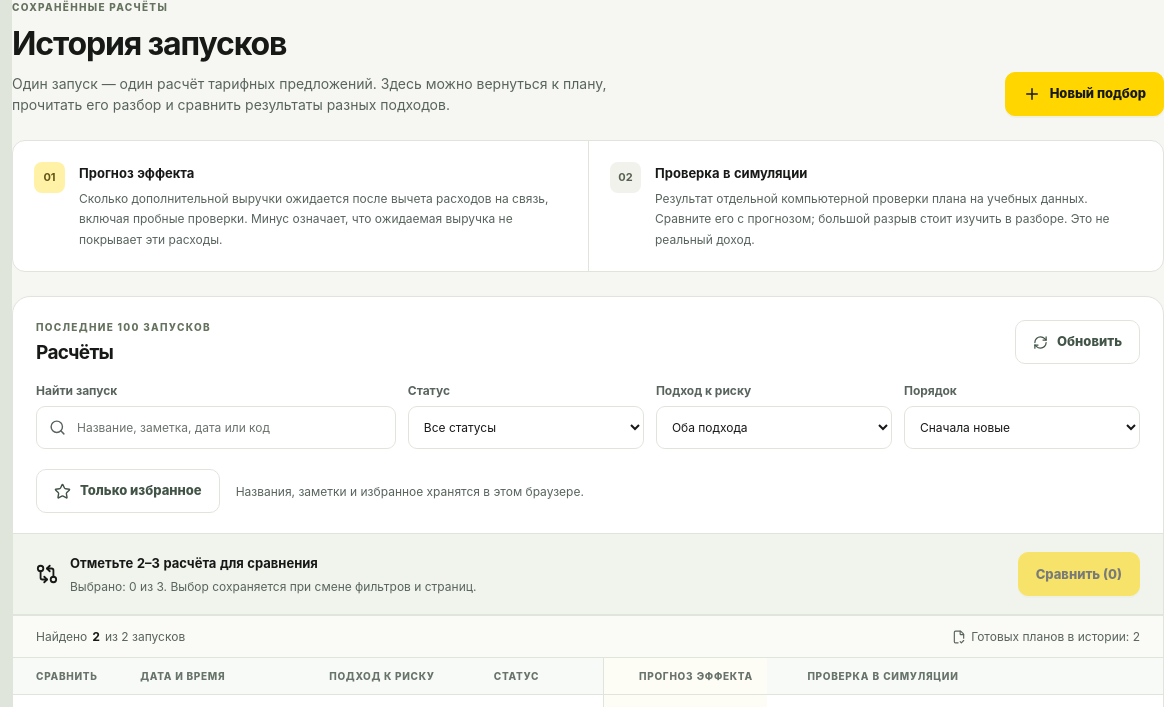
searches saved notes and filters favorites without changing server data
Type "конверсию" into the search field labelled "Найти запуск".
click(229, 428); type("конверсию")  # box [75,407,383,448]
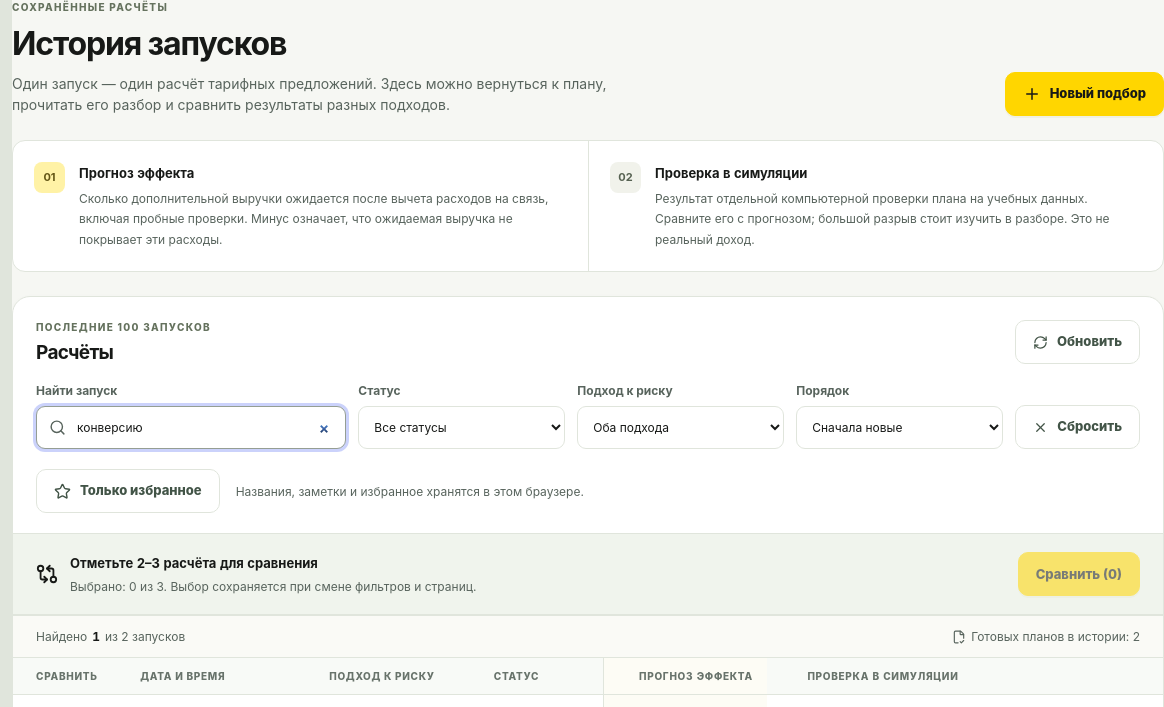
Clear the search field labelled "Найти запуск" at (204, 428), box [75,407,333,448]
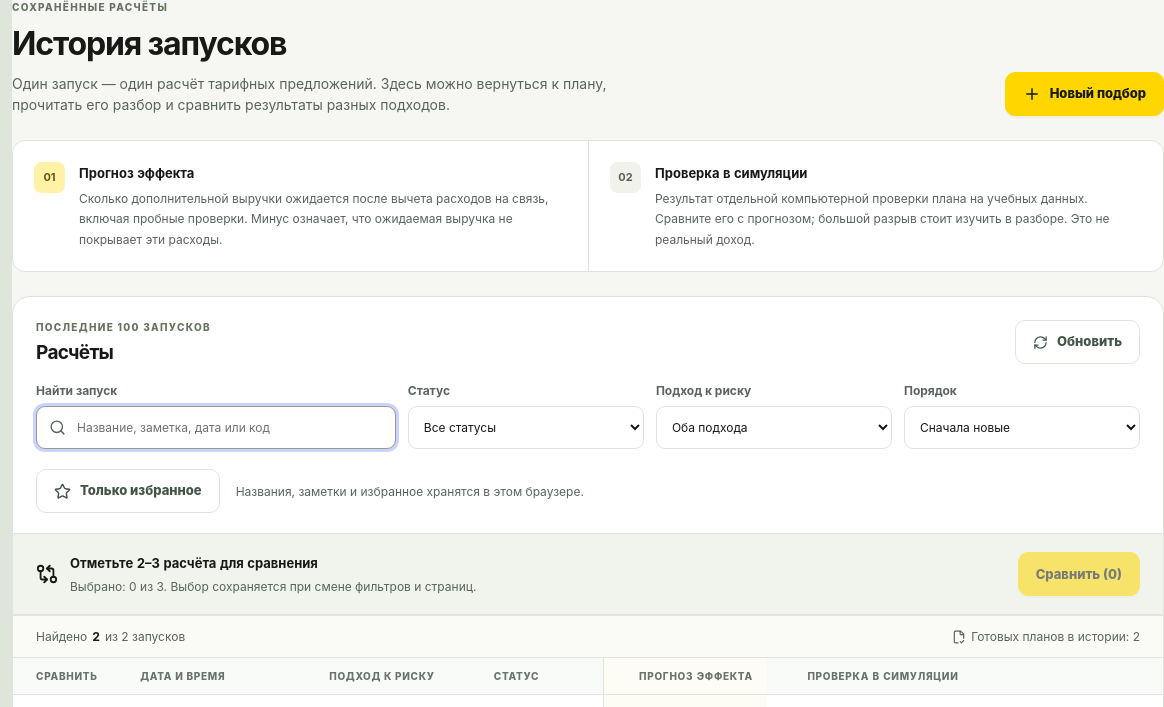
Click the button "Только избранное".
click(128, 491)  # box [36,469,220,513]
(page scrolled)
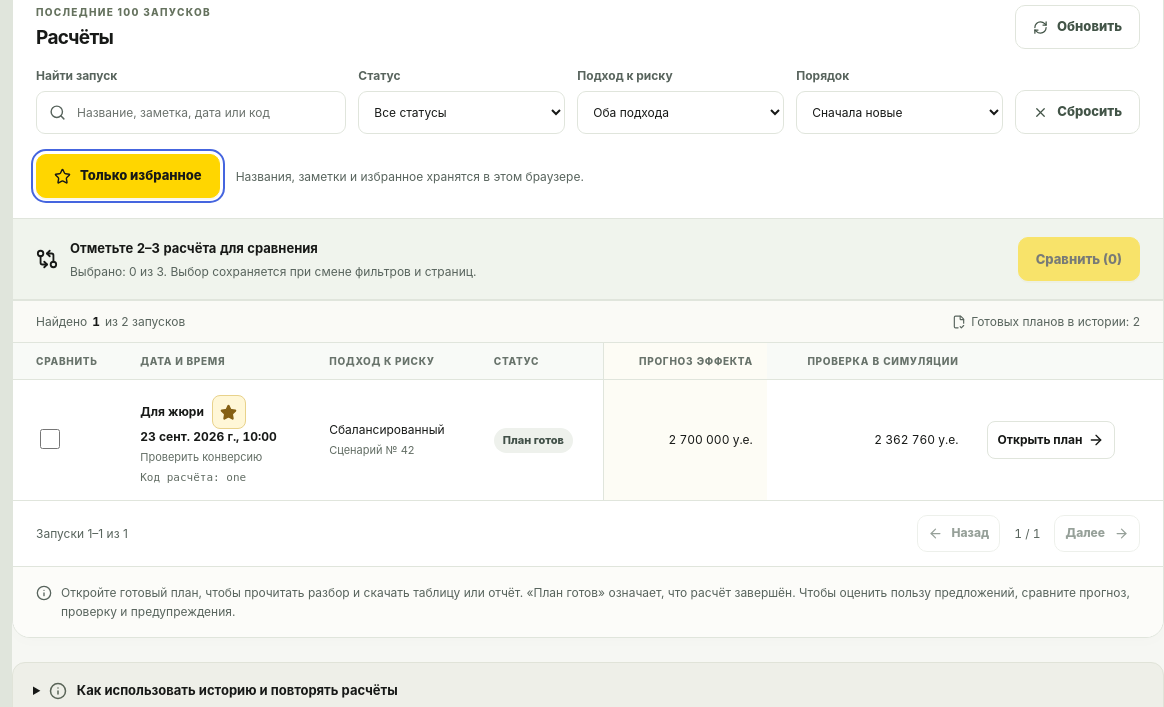
Click the button named "Убрать из избранного: Для жюри".
click(229, 412)  # box [212,395,246,429]
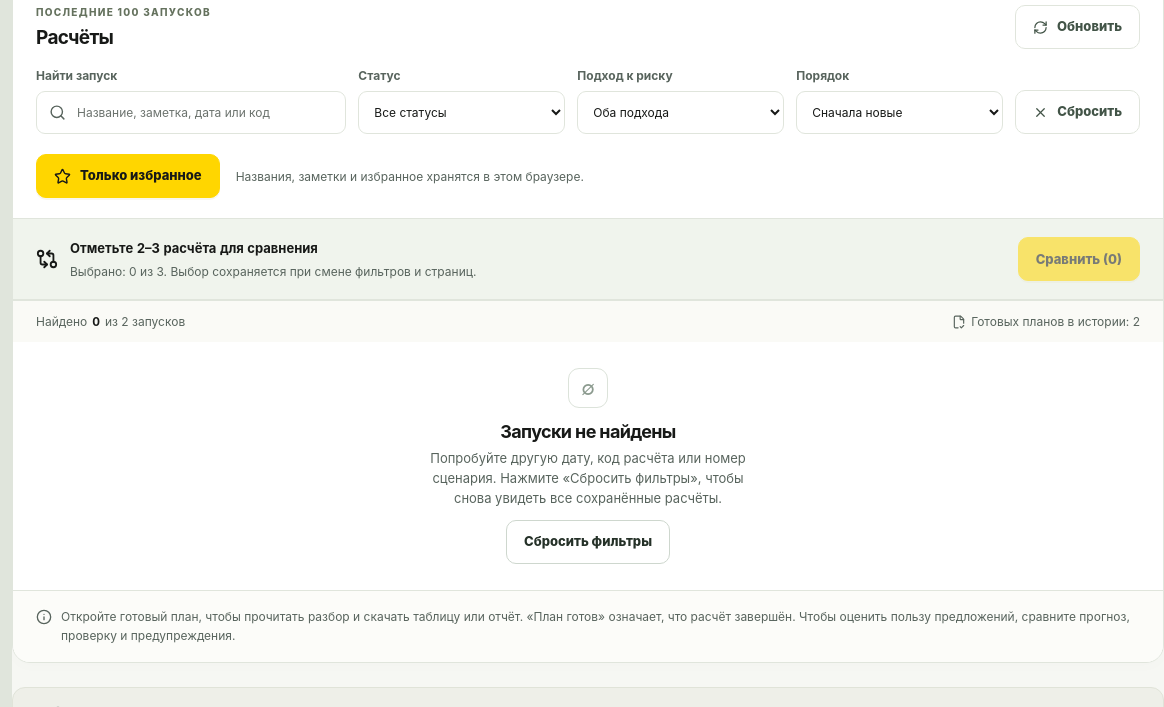
Now the heading "Запуски не найдены" is shown, box [500,421,676,442]
